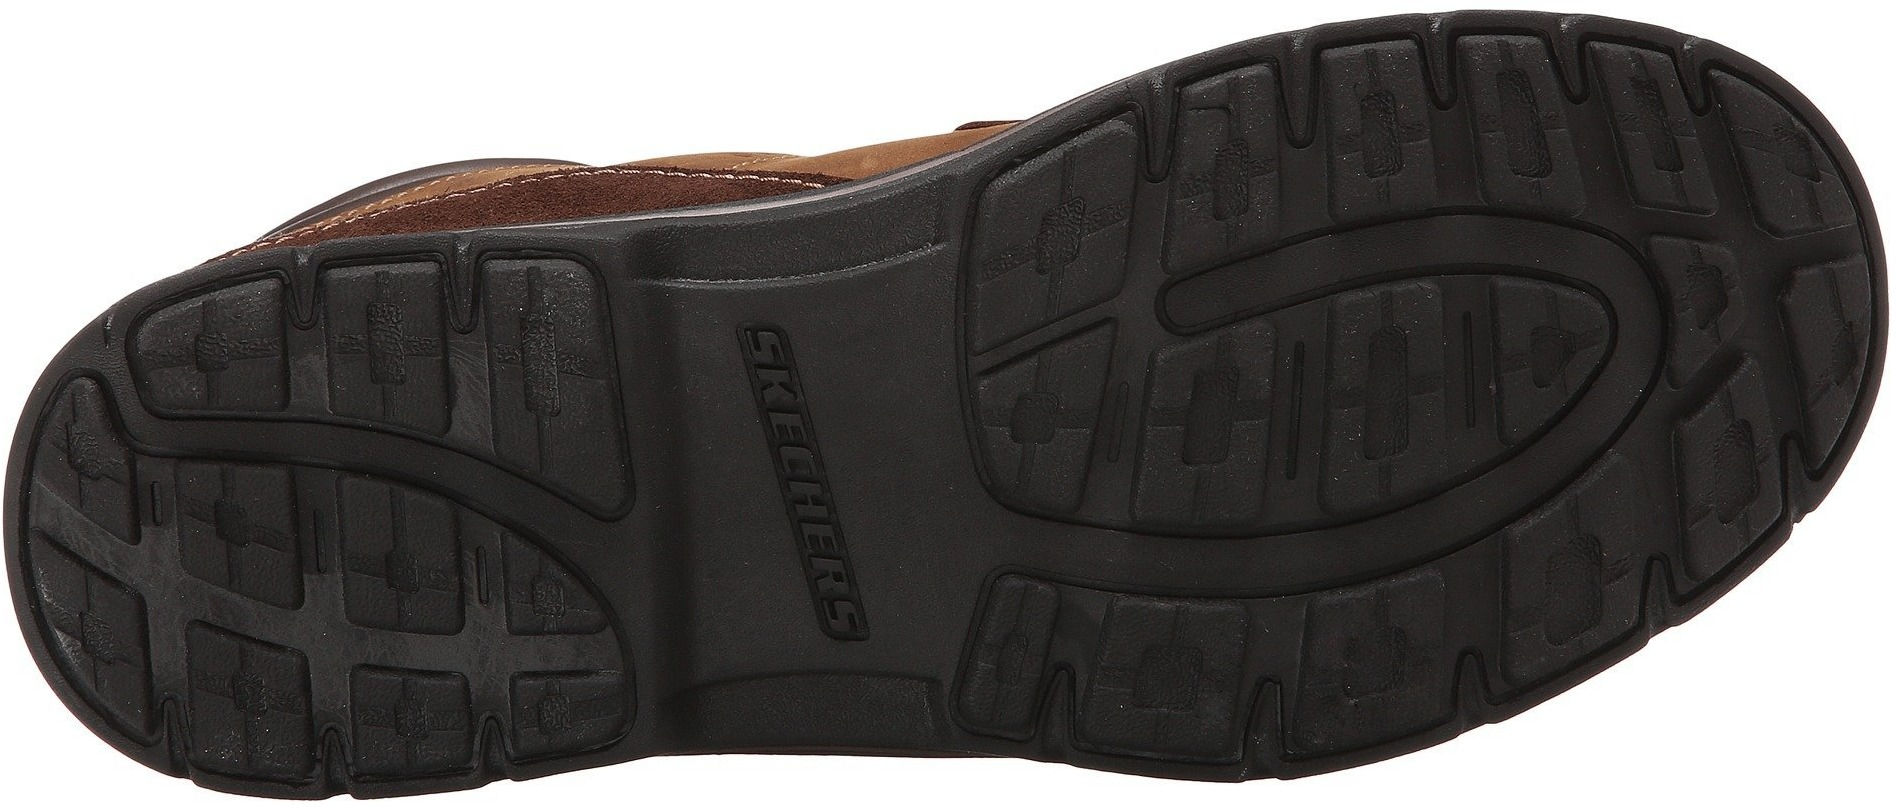line: (170, 305, 629, 741), (1138, 250, 1462, 566), (1479, 220, 1738, 481), (1073, 588, 1264, 763), (1299, 564, 1452, 758), (1303, 52, 1459, 226), (1154, 100, 1295, 269)
quad: (170, 305, 629, 741), (1138, 250, 1462, 566), (719, 311, 948, 654), (1479, 220, 1738, 481), (1073, 588, 1264, 763), (1299, 564, 1452, 758), (1303, 52, 1459, 226), (1154, 100, 1295, 269)
text: (719, 311, 948, 654)
triangle: (170, 305, 629, 741), (1479, 220, 1738, 481)
